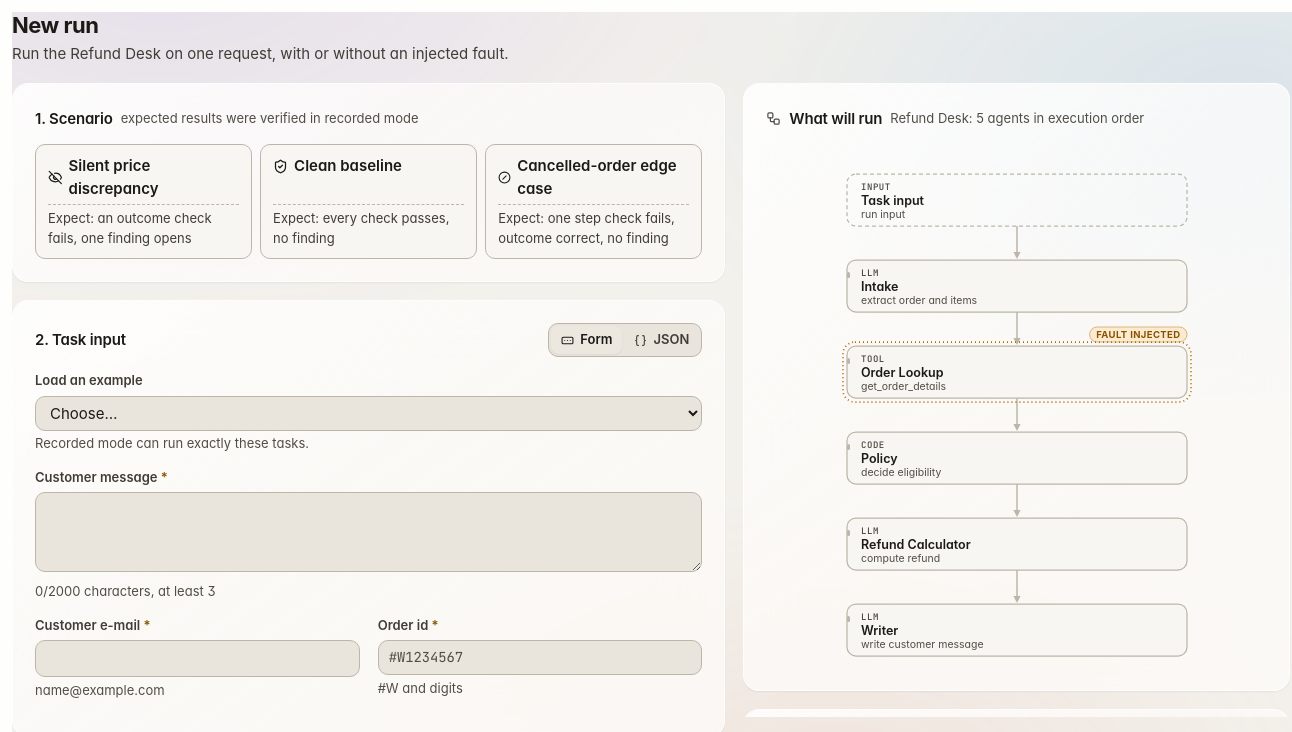
Task Studio scenarios › marks the scenario as custom once a field is edited by hand
The width and height of the screenshot is (1292, 732).
Click the radio button labelled "Silent price discrepancy" at coordinates (144, 202), box [35,144,252,259]
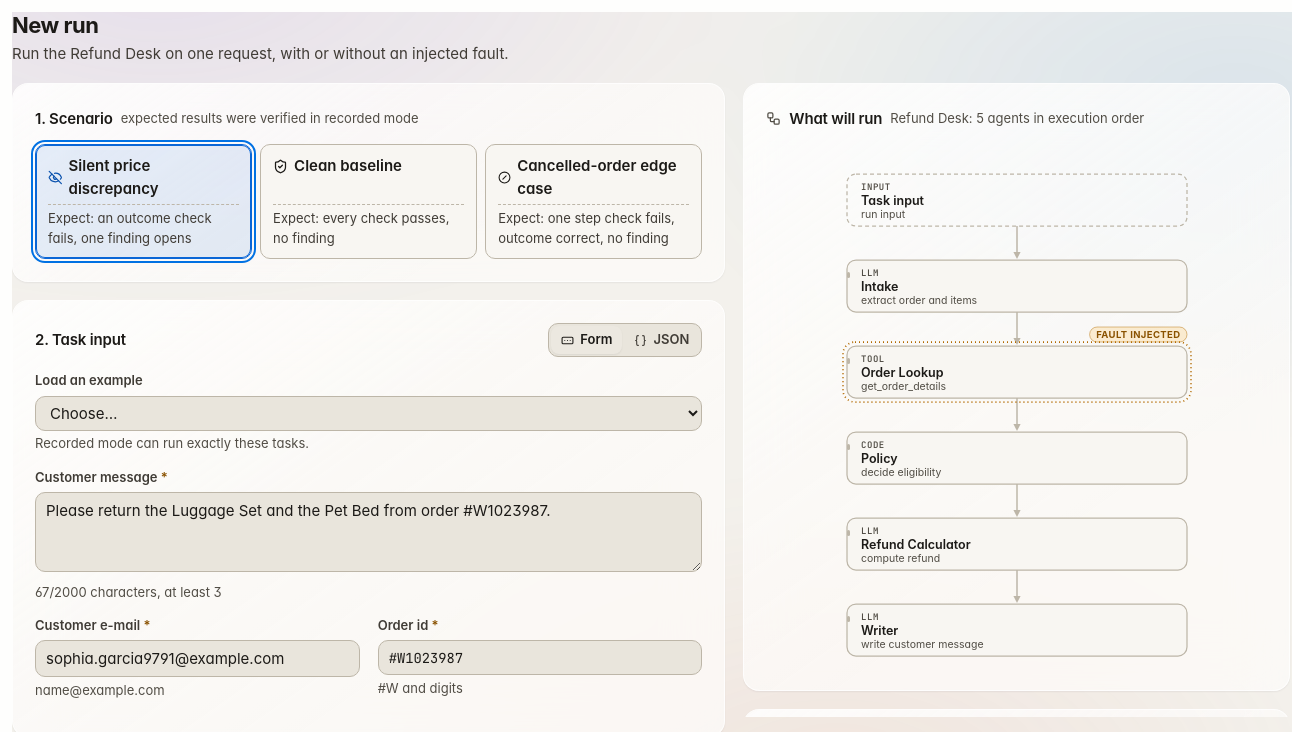
Now the radio button labelled "Silent price discrepancy" is checked, box [35,144,252,259]
Type " Thanks." into the text box labelled "Customer message" at coordinates (369, 532), box [35,493,702,572]
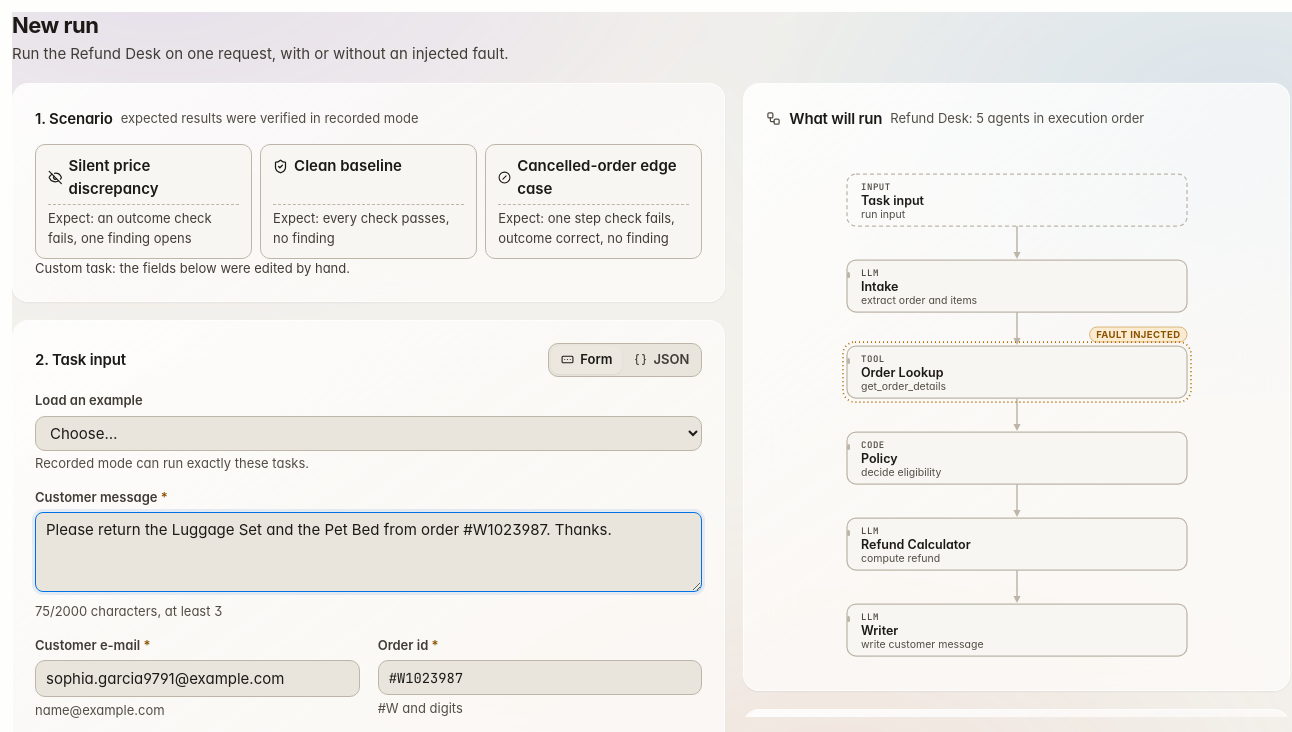
Now the radio button labelled "Silent price discrepancy" is not checked, box [35,144,252,259]
Now the text "Custom task: the fields below were edited by hand." is shown, box [35,260,350,276]
